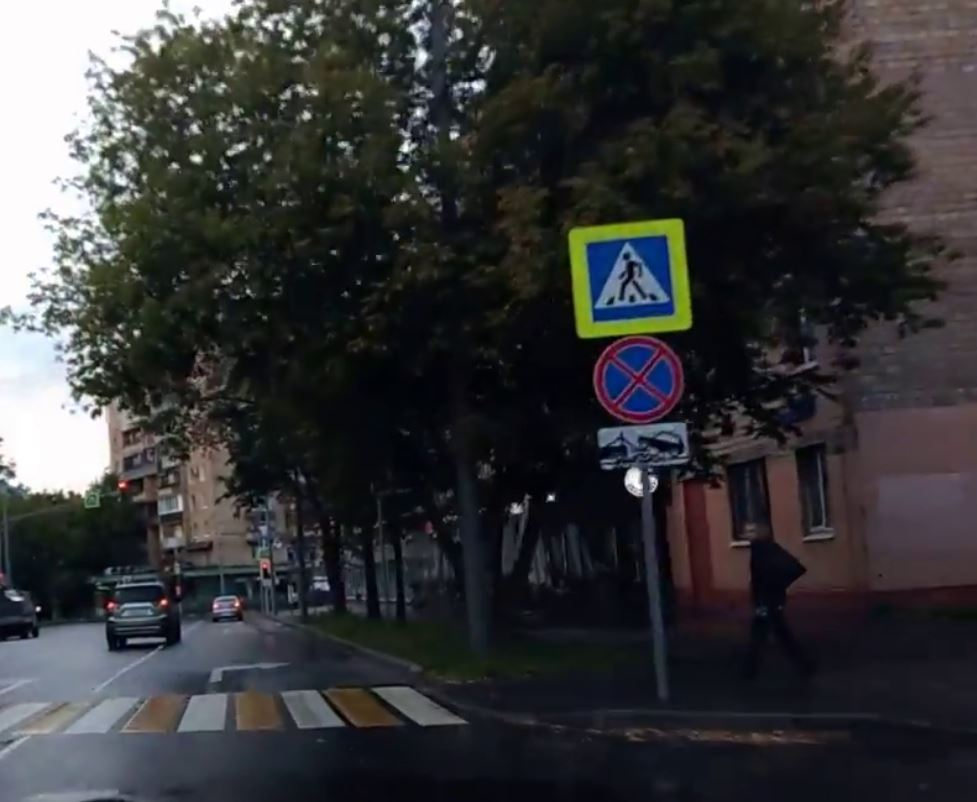Yaya Gecidi: (587, 243, 678, 317)
